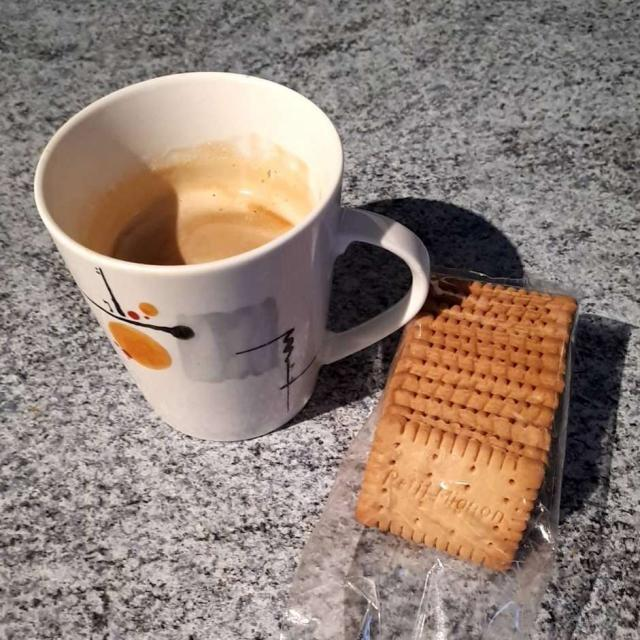coffee: (104, 198, 275, 278)
